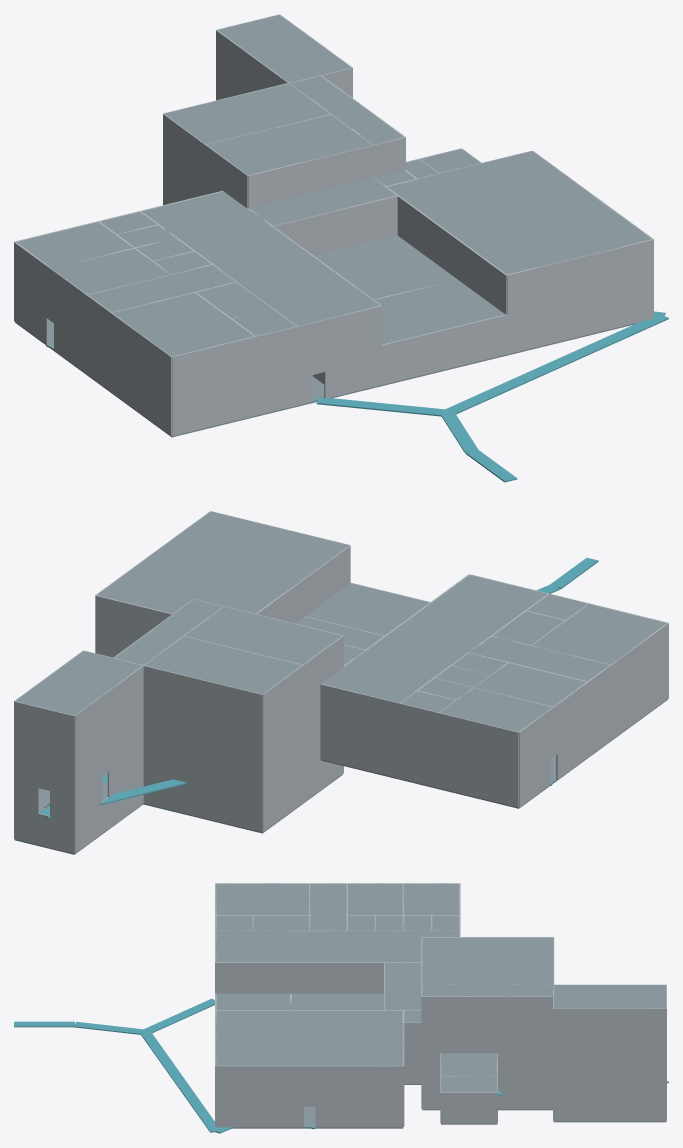
The model's file is rough-shell.glb.
3 views of the same model, one above another, from view 1: azimuth 30°, elevation 25°; view 2: azimuth 150°, elevation 25°; view 3: azimuth 270°, elevation 25° (orthographic). The views are drawn at different scales.
Parts seen in each view (by area): view 1: Wall ballroom S, Ceiling cap gallery.001, Ceiling cap ballroom.004, Ceiling cap archive, Ceiling cap attic-store, Wall morning S, Wall drawing S, Ceiling cap suite-bed, Ceiling cap attic-stair, Wall attic-store S, Wall upper-service-link S, Wall drawing W (+44 smaller); view 2: Ceiling cap gallery.001, Ceiling cap ballroom.004, Ceiling cap archive, Ceiling cap attic-store, Wall library N, Ceiling cap suite-bed, Ceiling cap attic-stair, Wall archive N, Wall guest-a N, Wall drawing W, Wall gallery N, Wall grand-stair N (+54 smaller); view 3: Ceiling cap gallery.001, Ceiling cap ballroom.004, Wall ballroom E.001, Wall ballroom E, Wall gallery E.001, Wall upper-service E, Wall attic-passage E, Wall service-stair E, Wall upper-service-stair E, Ceiling cap archive, Ceiling cap attic-store, Wall attic-stair E (+34 smaller).
Boxes of the visible parts, <box> form: Wall ballroom S: <box>506,239,653,354</box>; Ceiling cap gallery.001: <box>165,208,380,326</box>; Ceiling cap ballroom.004: <box>449,151,651,259</box>; Ceiling cap archive: <box>164,83,329,144</box>; Ceiling cap attic-store: <box>207,114,373,174</box>; Wall morning S: <box>381,314,507,384</box>; Wall drawing S: <box>172,366,297,435</box>; Ceiling cap suite-bed: <box>112,293,255,356</box>; Ceiling cap attic-stair: <box>217,15,351,82</box>; Wall attic-store S: <box>248,145,374,208</box>; Wall upper-service-link S: <box>273,195,397,255</box>; Wall drawing W: <box>86,335,171,435</box>; Ceiling cap gallery.001: <box>344,575,547,685</box>; Ceiling cap ballroom.004: <box>96,511,289,613</box>; Ceiling cap archive: <box>144,636,301,694</box>; Ceiling cap attic-store: <box>185,607,342,664</box>; Wall library N: <box>399,741,518,807</box>; Ceiling cap suite-bed: <box>532,604,666,664</box>; Ceiling cap attic-stair: <box>15,651,142,715</box>; Wall archive N: <box>143,665,262,725</box>; Wall guest-a N: <box>439,713,518,769</box>; Wall drawing W: <box>588,661,668,756</box>; Wall gallery N: <box>320,683,399,740</box>; Wall grand-stair N: <box>320,722,398,778</box>; Ceiling cap gallery.001: <box>215,931,422,962</box>; Ceiling cap ballroom.004: <box>215,1034,403,1065</box>; Wall ballroom E.001: <box>215,1065,303,1127</box>; Wall ballroom E: <box>315,1065,403,1127</box>; Wall gallery E.001: <box>215,962,397,993</box>; Wall upper-service E: <box>404,1022,552,1053</box>; Wall attic-passage E: <box>422,996,552,1022</box>; Wall service-stair E: <box>553,1065,666,1095</box>; Wall upper-service-stair E: <box>553,1034,666,1064</box>; Ceiling cap archive: <box>488,937,553,984</box>; Ceiling cap attic-store: <box>422,937,487,984</box>; Wall attic-stair E: <box>553,1008,666,1034</box>.
Size of the model in its own units: 47.56 by 13.36 by 69.8.
